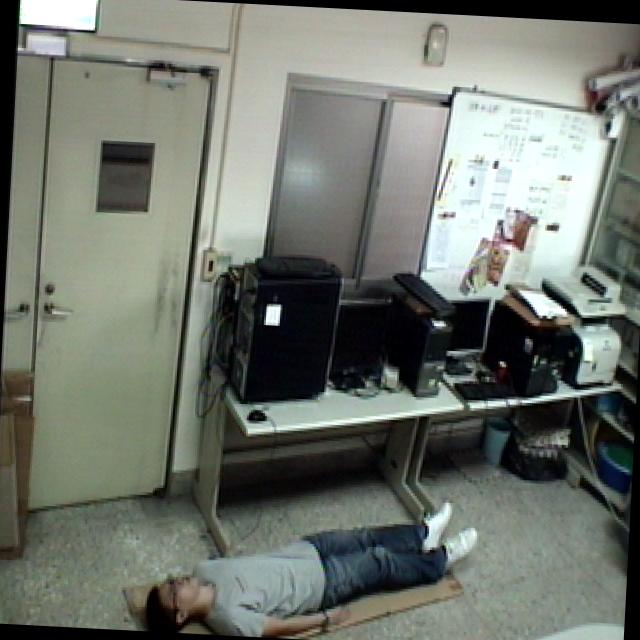lie: (135, 465, 487, 640)
